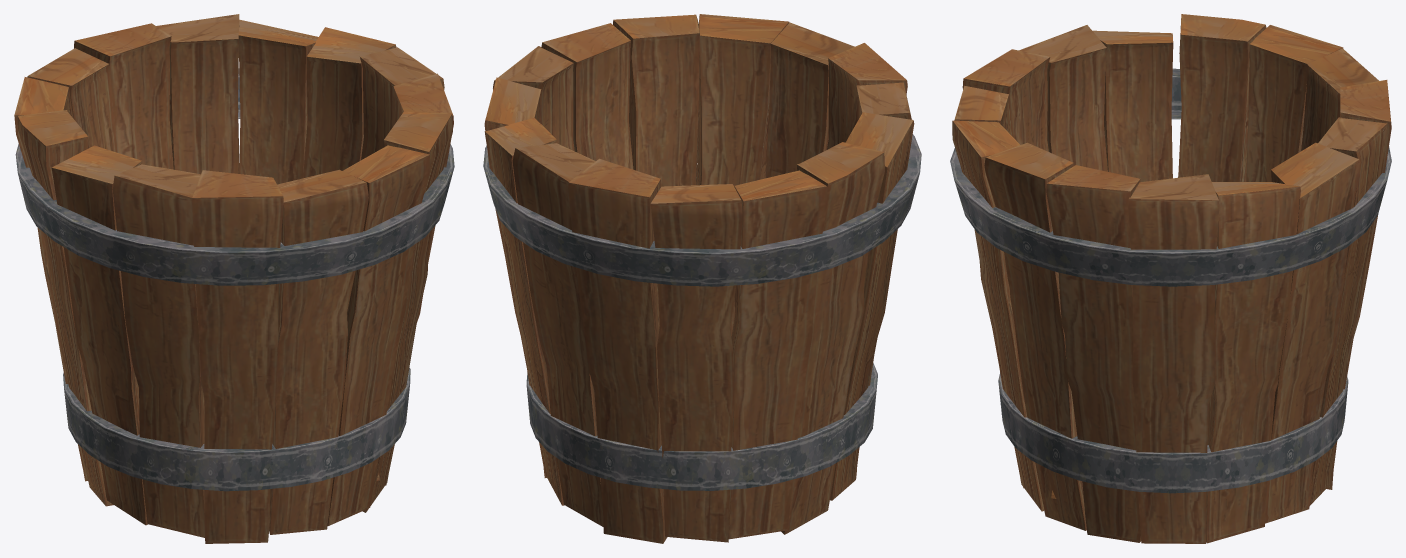
File: SM_Farm_Bucket_01.fbx
3 renders of one model, left to right at view 1: azimuth 30°, elevation 25°; view 2: azimuth 150°, elevation 25°; view 3: azimuth 270°, elevation 25°, orthographic.
Visible parts, largest first — view 1: SM_Farm_Bucket_01_LOD0; view 2: SM_Farm_Bucket_01_LOD0; view 3: SM_Farm_Bucket_01_LOD0.
Boxes of the visible parts, left/top/right/bottom form: SM_Farm_Bucket_01_LOD0: left=14, top=14, right=454, bottom=543; SM_Farm_Bucket_01_LOD0: left=483, top=14, right=921, bottom=543; SM_Farm_Bucket_01_LOD0: left=950, top=14, right=1391, bottom=543.
Size of what is drawn, in the model's own units: 53.35 by 51.18 by 53.78.
